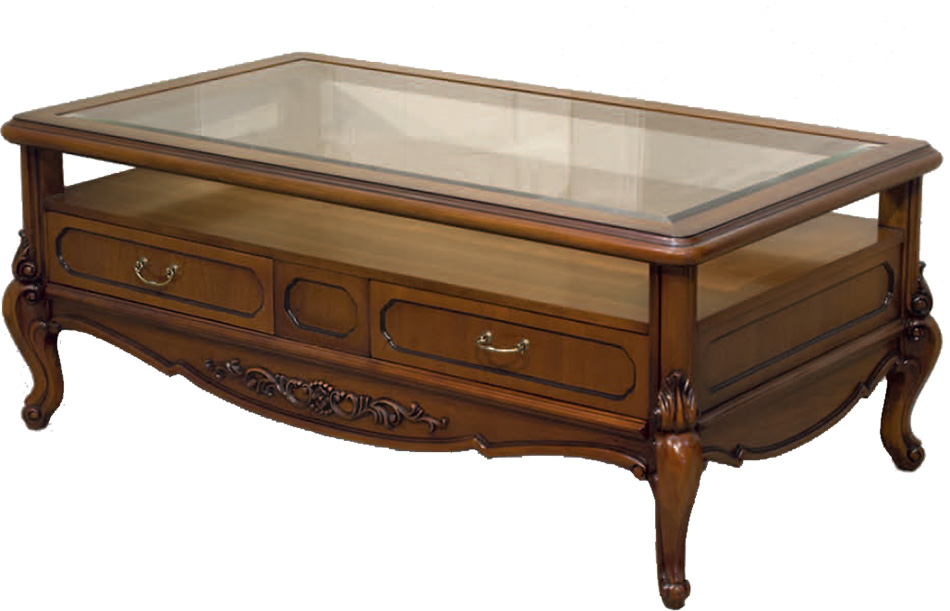Carving Table: (25, 69, 938, 591)
